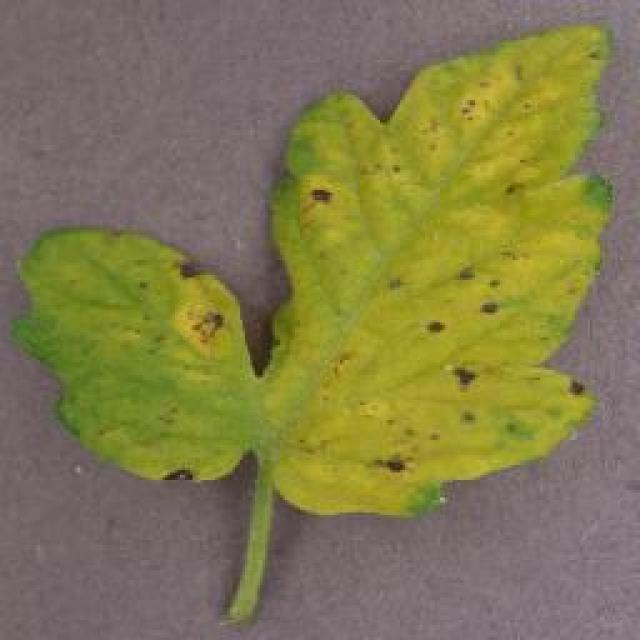Tomato Septoria spot leaf: (16, 19, 614, 514)
